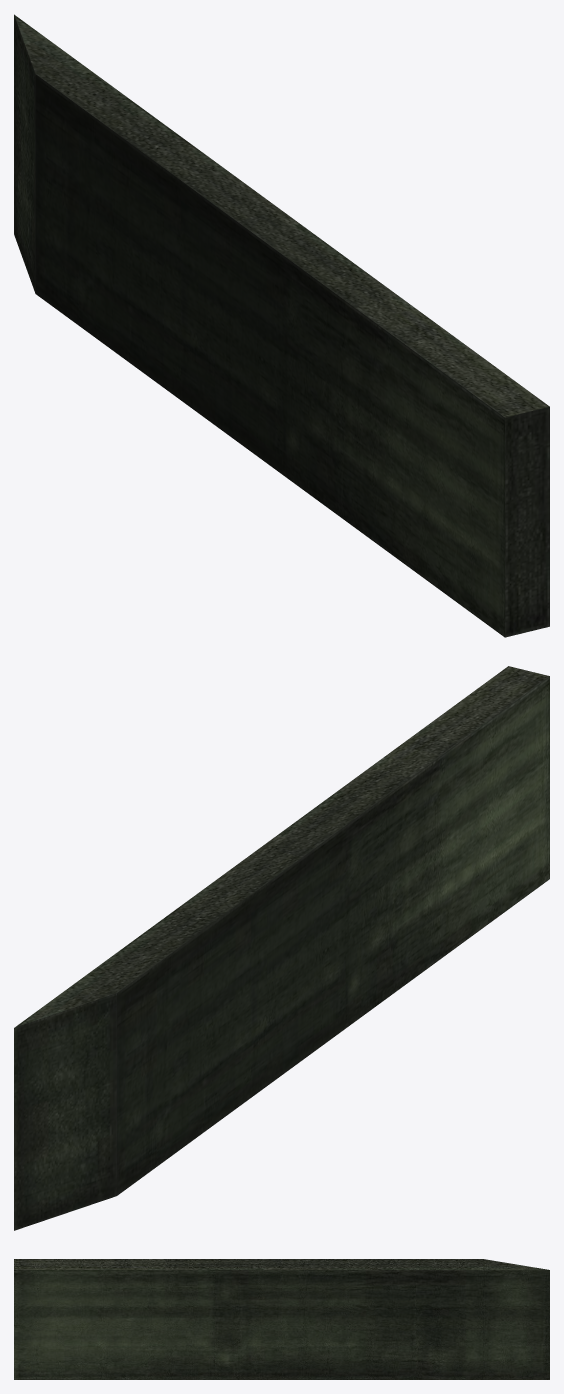
File: raque_side_lvl_1.glb
The picture shows the model from 3 angles, top to bottom: view 1: azimuth 30°, elevation 25°; view 2: azimuth 150°, elevation 25°; view 3: azimuth 270°, elevation 25°; orthographic projection. The views are drawn at different scales.
Parts seen in each view (by area): view 1: Mesh_0.003; view 2: Mesh_0.003; view 3: Mesh_0.003.
Part boxes in pixels (x1,y1,x2,y2): Mesh_0.003: [14, 14, 549, 637]; Mesh_0.003: [14, 666, 549, 1230]; Mesh_0.003: [14, 1259, 549, 1379].
Bounding box in the file's own units: 0.00928 × 0.0433 × 0.1914.
Materials: 1 (1 with a texture image).
